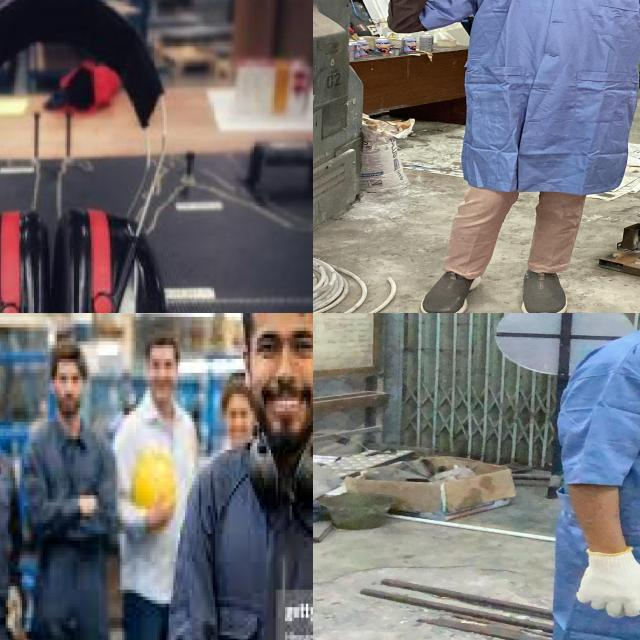Ear-protection: (0, 2, 175, 313), (243, 426, 280, 510), (287, 429, 313, 513)
hand_glove: (568, 543, 640, 620)
head_helmet: (124, 432, 176, 524)
person: (355, 0, 640, 313), (175, 313, 313, 640), (541, 313, 640, 640), (19, 341, 119, 640), (122, 338, 201, 640)
shoes: (407, 263, 492, 313), (510, 260, 578, 313)
